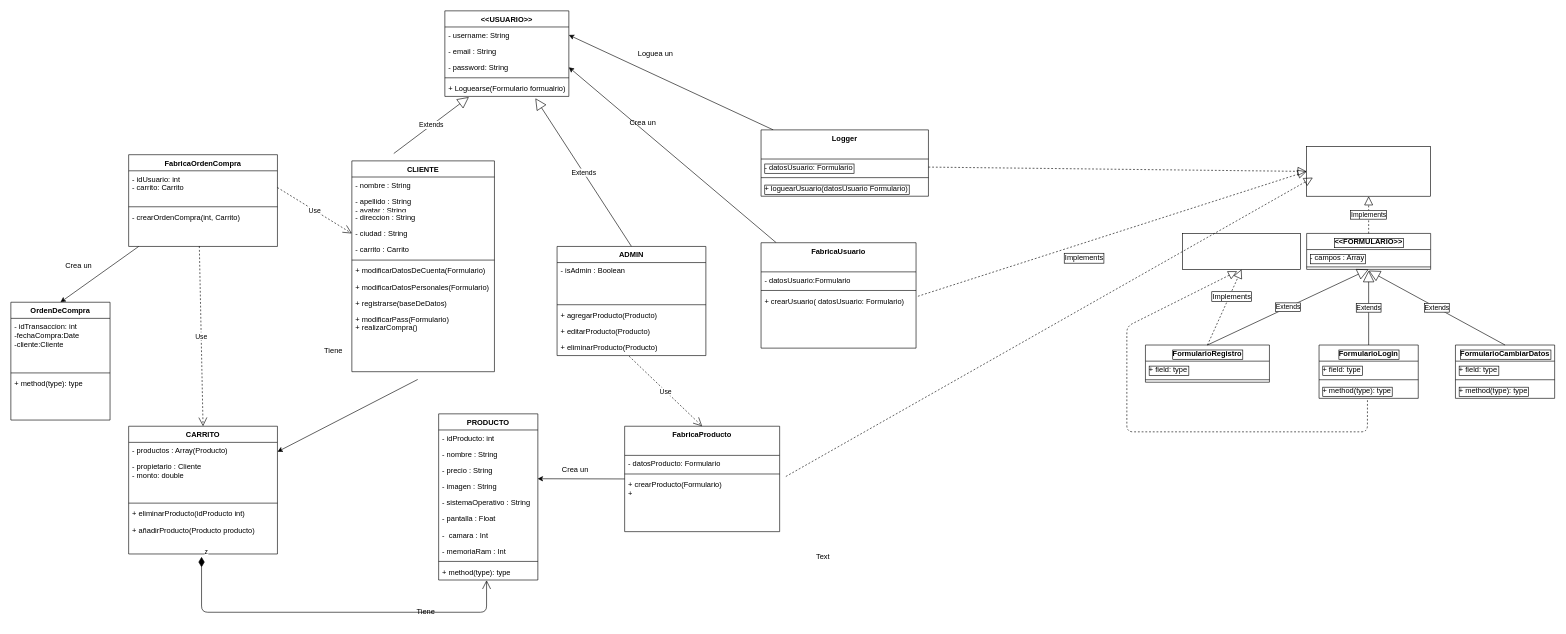
Image size: 1566x634. Some labels were removed from this diagram. Each missing label, with the centre of its shape:
"<<Interface>> Validar + validarCampos(Array campos)" belongs at point (1368, 171).
"<<Interface>> validarBBDD + validarEnBBDD(Array campos)" belongs at point (1241, 251).
